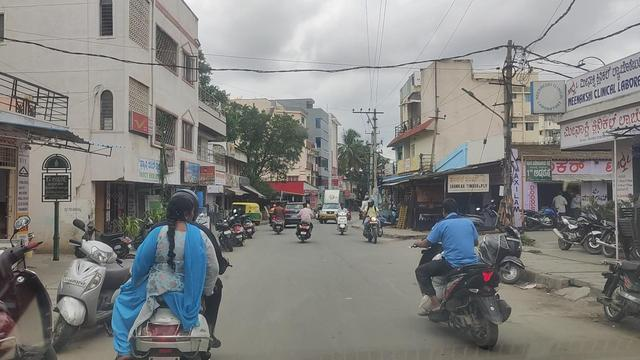LMV: (416, 204, 505, 349), (147, 194, 215, 353), (293, 203, 311, 249)
